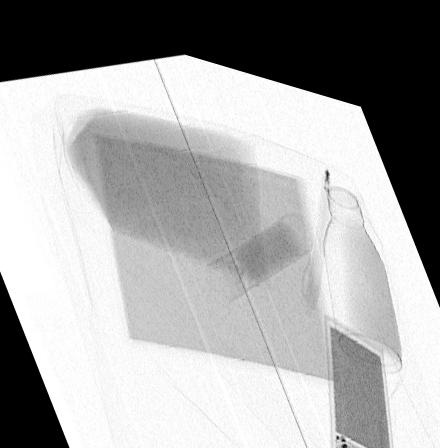Powerbank: (323, 294, 395, 448)
